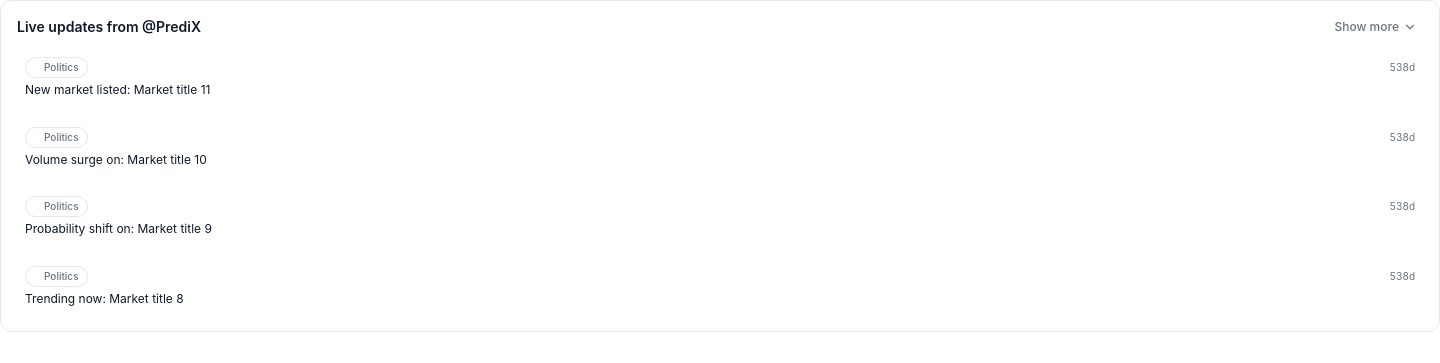
ActivityFeedCard › collapses back to 4 items
Step 1. Click the button "Show more" → {"x": 1376, "y": 27}, box top-left (1328, 17), bottom-right (1423, 37)
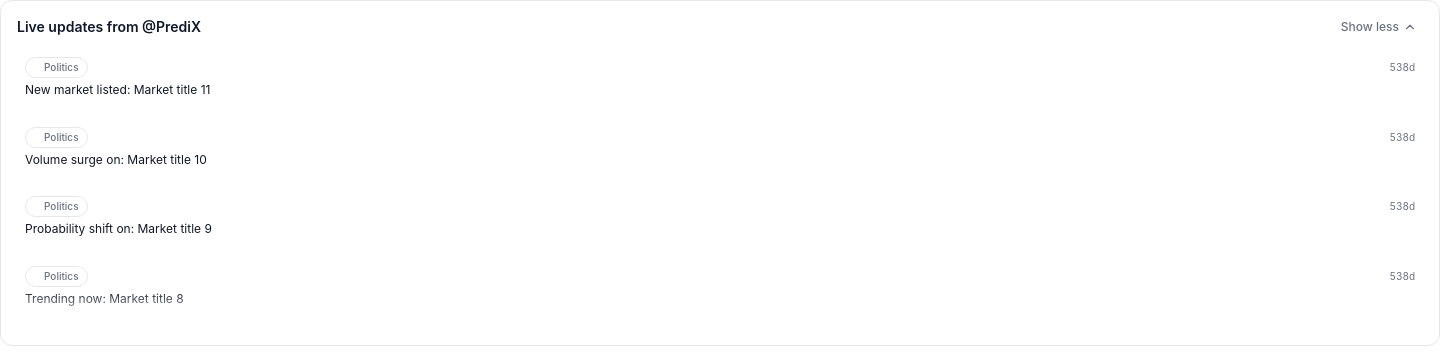
Step 2. Click the button "Show less" → {"x": 1379, "y": 27}, box top-left (1335, 17), bottom-right (1423, 37)
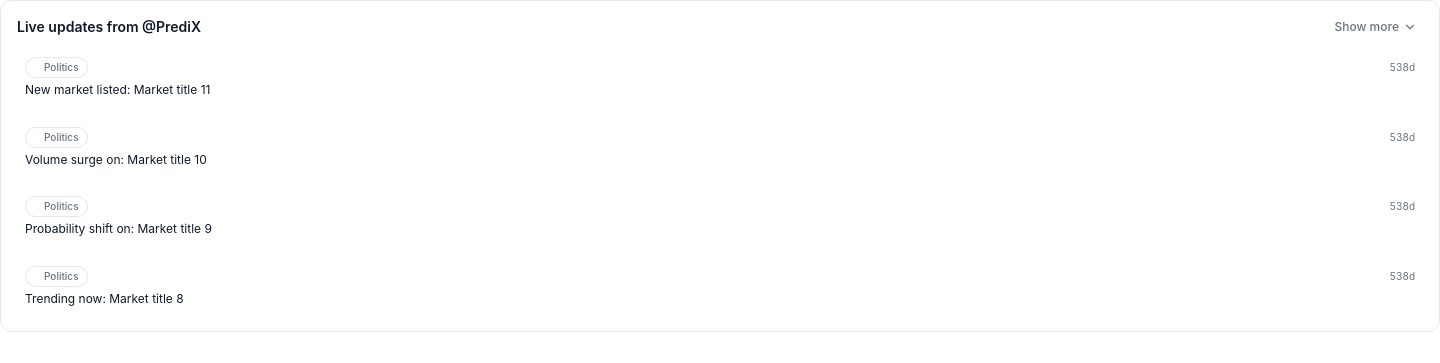
expect the number of links is 4: met, box top-left (17, 49), bottom-right (1423, 106); top-left (17, 118), bottom-right (1423, 176); top-left (17, 188), bottom-right (1423, 246); top-left (17, 258), bottom-right (1423, 315)
